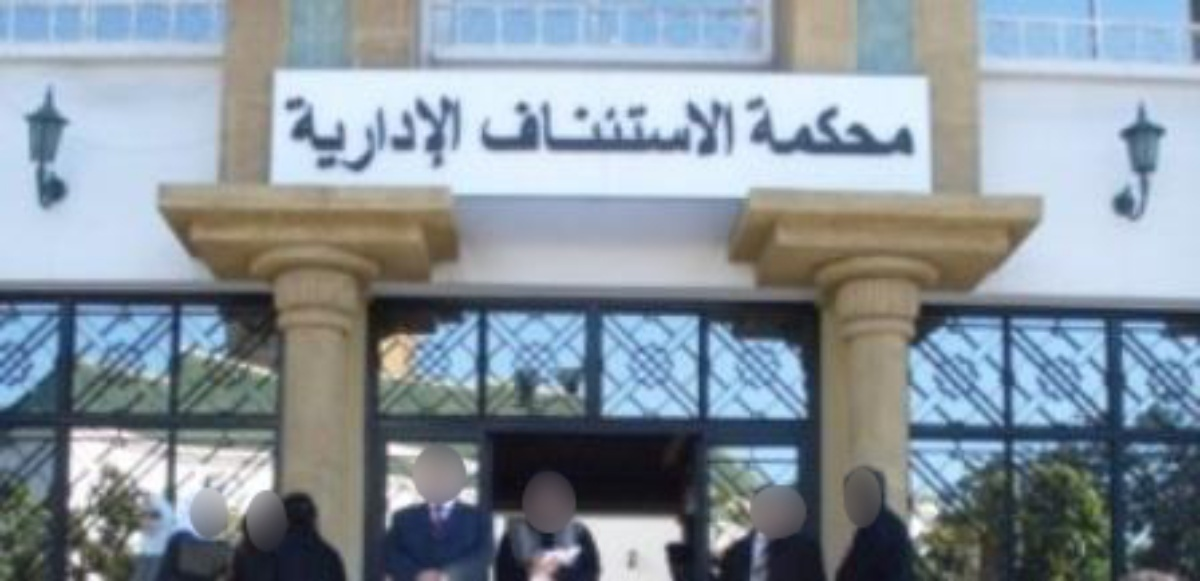text: (289, 92, 304, 175), (305, 92, 320, 175), (321, 92, 336, 175), (337, 92, 352, 175), (353, 92, 368, 175), (369, 92, 384, 175), (385, 92, 400, 175), (401, 92, 416, 175), (417, 92, 432, 175), (433, 92, 448, 175), (449, 92, 464, 175), (721, 92, 737, 158), (753, 89, 768, 158), (769, 89, 784, 158), (785, 89, 800, 158), (801, 89, 816, 158), (817, 89, 832, 158), (833, 89, 848, 158), (849, 89, 864, 158), (865, 89, 880, 158), (881, 89, 896, 158), (897, 89, 912, 158), (481, 92, 496, 158), (497, 92, 512, 158), (513, 92, 528, 158), (529, 92, 544, 158), (545, 92, 560, 158), (561, 92, 576, 158), (577, 92, 592, 158), (593, 92, 608, 158), (609, 92, 624, 158), (625, 92, 640, 158), (641, 92, 656, 158), (657, 92, 672, 158), (673, 92, 688, 158), (689, 92, 704, 158), (705, 92, 720, 158), (742, 89, 752, 158), (282, 92, 288, 175), (913, 89, 917, 158)
